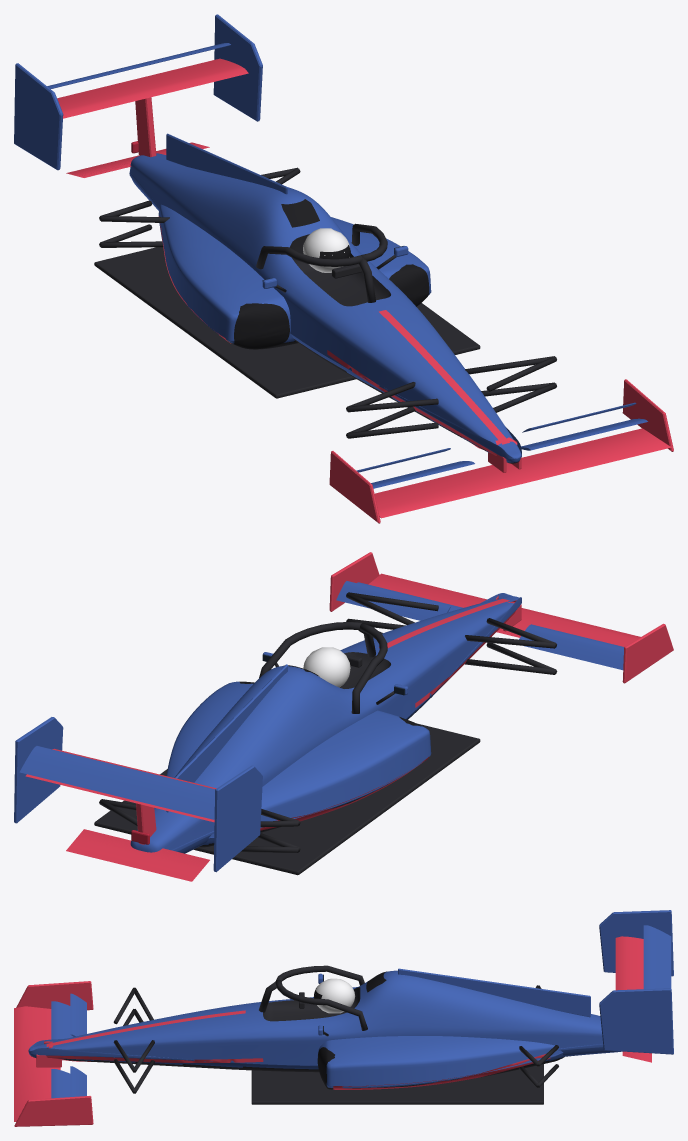
File: formula.glb
3 renders of one model, top to bottom at view 1: azimuth 30°, elevation 25°; view 2: azimuth 150°, elevation 25°; view 3: azimuth 270°, elevation 25°, orthographic. The views are drawn at different scales.
Visible parts, largest first — view 1: body, wing; view 2: body, wing; view 3: body, wing.
Part boxes in pixels (x1,y1,x2,y2): body: [66, 133, 673, 523]; wing: [14, 14, 262, 170]; body: [66, 552, 673, 881]; wing: [14, 717, 262, 872]; body: [14, 965, 651, 1126]; wing: [599, 910, 673, 1054].
Size of the model in its own units: 2.34 by 1.13 by 5.64.
